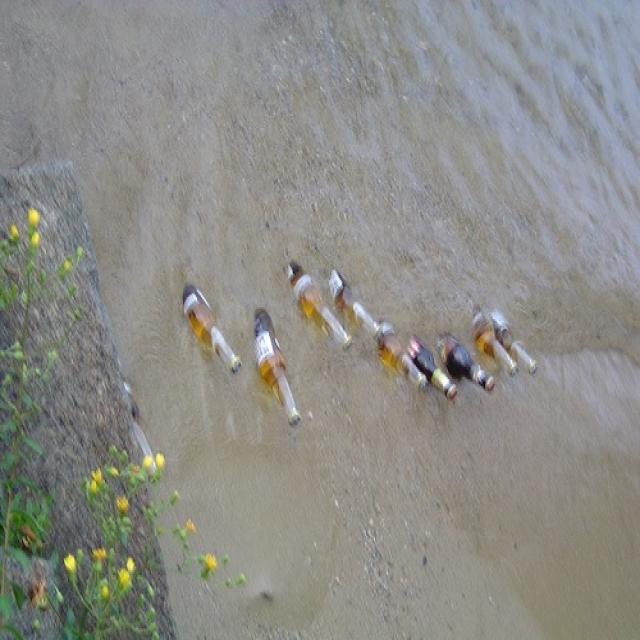bottle: (282, 259, 353, 350), (253, 309, 301, 425), (183, 283, 242, 374), (376, 319, 429, 394), (328, 264, 380, 340), (436, 331, 496, 394), (404, 334, 457, 398), (494, 316, 536, 374), (474, 321, 517, 375)
